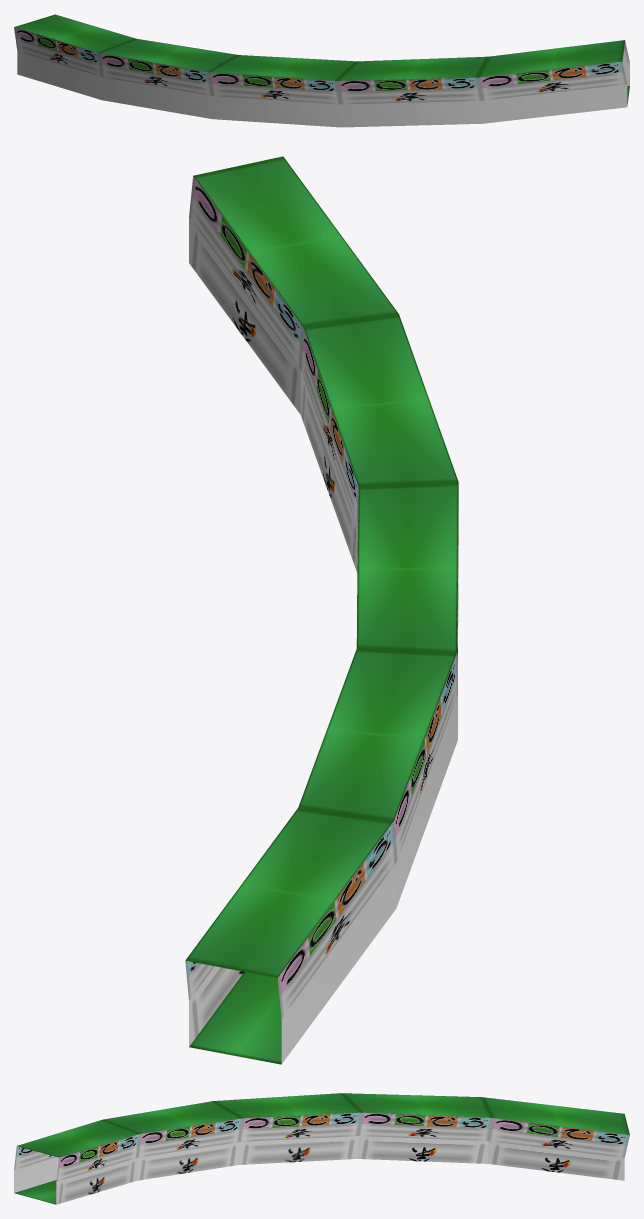
Rendered from CourseSummer_Wall_L_8.fbx.
3 renders of one model, top to bottom at view 1: azimuth 30°, elevation 25°; view 2: azimuth 150°, elevation 25°; view 3: azimuth 270°, elevation 25°, orthographic. The views are drawn at different scales.
Parts seen in each view (by area): view 1: polySurface66; view 2: polySurface66; view 3: polySurface66.
Part boxes in pixels (x1=…): polySurface66: x1=14, y1=14, x2=629, y2=127; polySurface66: x1=185, y1=156, x2=458, y2=1064; polySurface66: x1=14, y1=1093, x2=629, y2=1204.
Bounding box in the file's own units: 14.98 × 6.98 × 24.33.
1 material, 1 textured.
